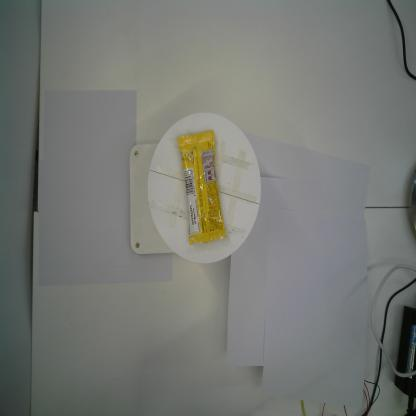Chocolate: (177, 129, 226, 245)
